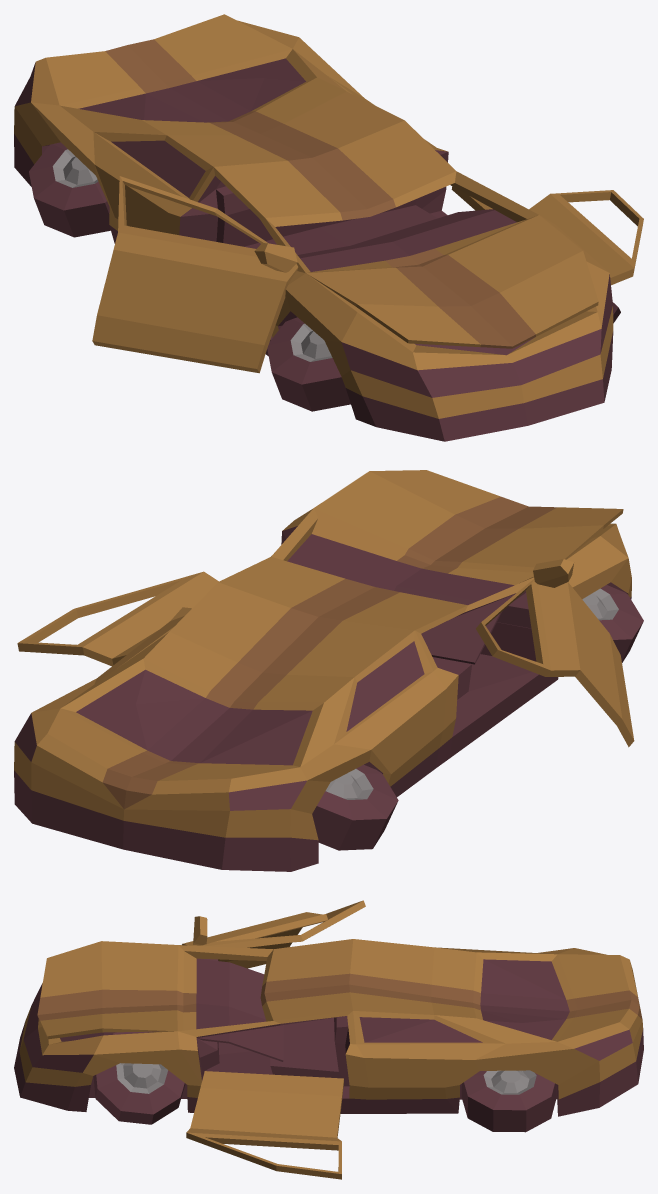
File: car-broken-apocalypse.fbx
3 renders of one model, top to bottom at view 1: azimuth 30°, elevation 25°; view 2: azimuth 150°, elevation 25°; view 3: azimuth 270°, elevation 25°, orthographic. The views are drawn at different scales.
Parts seen in each view (by area): view 1: car-broken-apocalypse-base, car-broken-apocalypse-props; view 2: car-broken-apocalypse-base, car-broken-apocalypse-props; view 3: car-broken-apocalypse-base, car-broken-apocalypse-props.
Boxes of the visible parts, bbox=[...] form: car-broken-apocalypse-base: bbox=[14, 14, 613, 441]; car-broken-apocalypse-props: bbox=[29, 142, 643, 411]; car-broken-apocalypse-base: bbox=[14, 470, 631, 871]; car-broken-apocalypse-props: bbox=[17, 559, 643, 850]; car-broken-apocalypse-base: bbox=[14, 939, 643, 1116]; car-broken-apocalypse-props: bbox=[93, 900, 556, 1179].
Size of the model in its own units: 3.71 by 0.8474 by 4.69.
